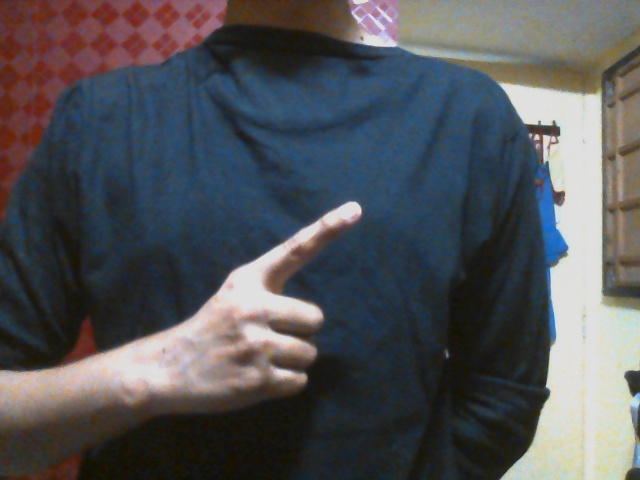I: (179, 201, 362, 415)
